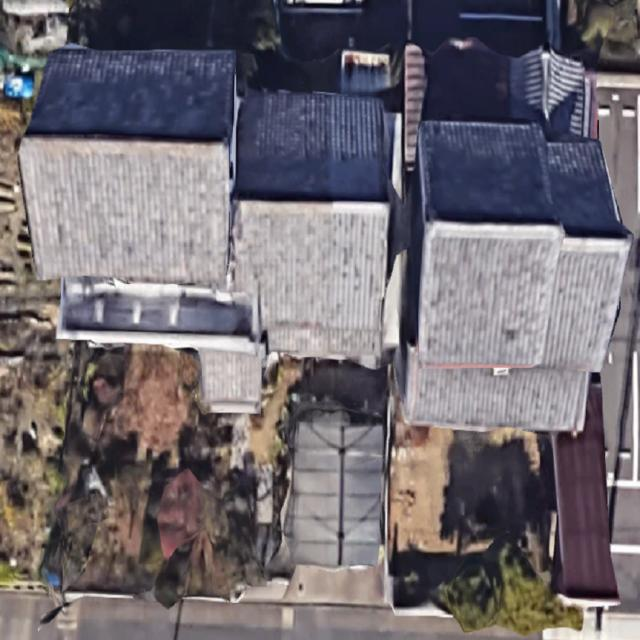Batiment: (404, 123, 631, 431), (19, 45, 235, 284), (232, 92, 390, 364), (285, 412, 384, 567)
